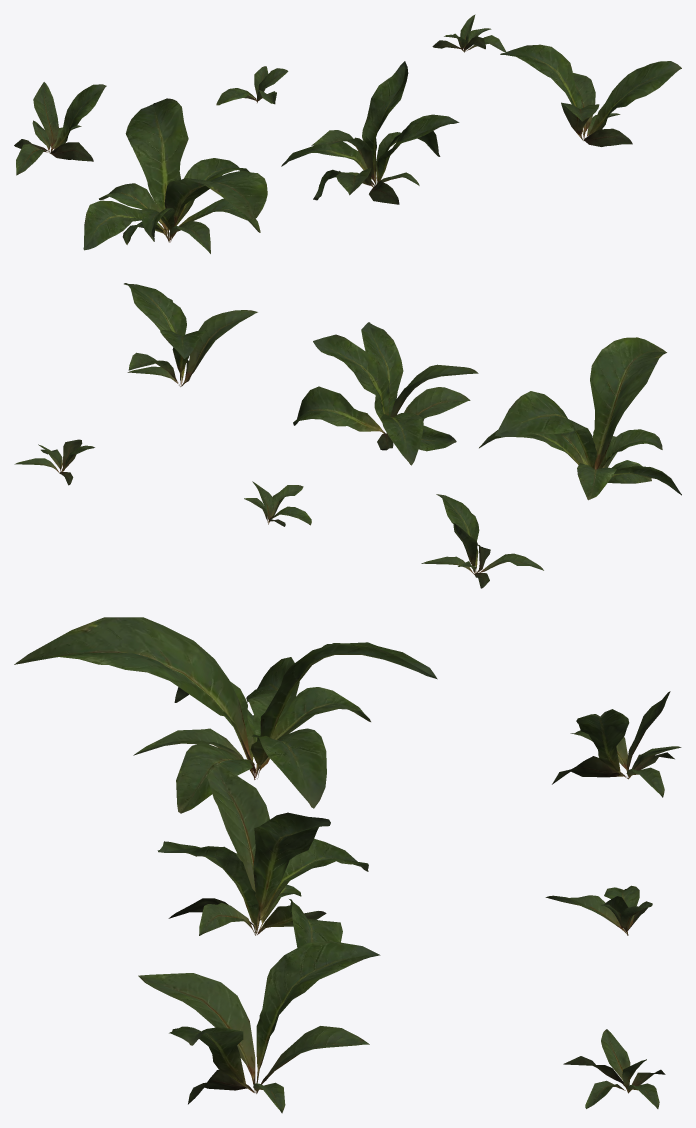
The model's file is anthurium_botany_01.glb.
The picture shows the model from 3 angles, top to bottom: view 1: azimuth 30°, elevation 25°; view 2: azimuth 150°, elevation 25°; view 3: azimuth 270°, elevation 25°; orthographic projection. The views are drawn at different scales.
Visible parts, largest first — view 1: anthurium_botany_01_a; view 2: anthurium_botany_01_a; view 3: anthurium_botany_01_a.
Part boxes in pixels (left/top/right/bottom): anthurium_botany_01_a: left=14, top=14, right=681, bottom=253; anthurium_botany_01_a: left=14, top=283, right=681, bottom=588; anthurium_botany_01_a: left=14, top=617, right=681, bottom=1113.
Bounding box in the file's own units: 2.79 × 0.4982 × 1.8.
Materials: 1 (1 with a texture image).
